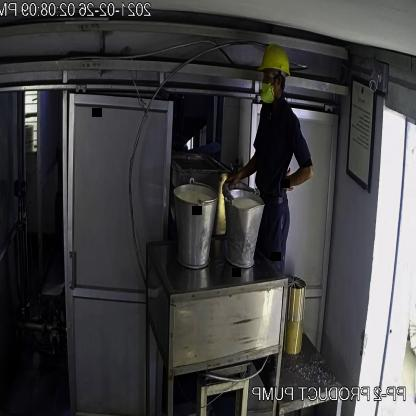helmet: (254, 34, 293, 78)
